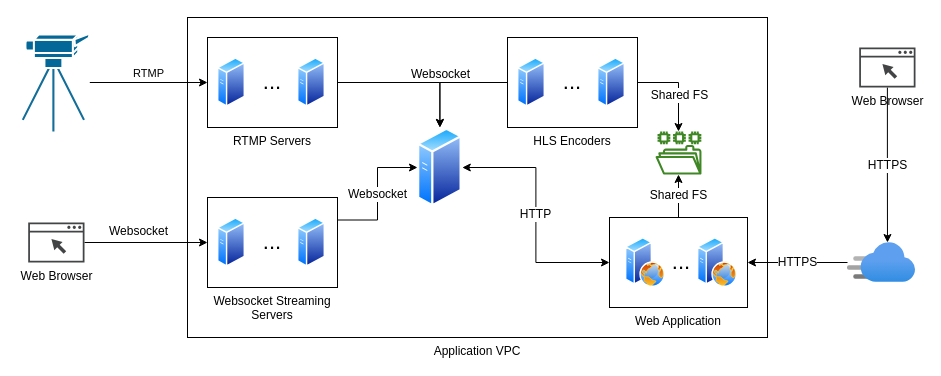
The diagram is 941 pixels wide and 376 high, and some of its shapes have lost their labels. The centre of each missing label's shape, as x and y in pixels:
CDN: the point at 881,262
Coordinator: the point at 439,167
OBS / Camera: the point at 55,82
